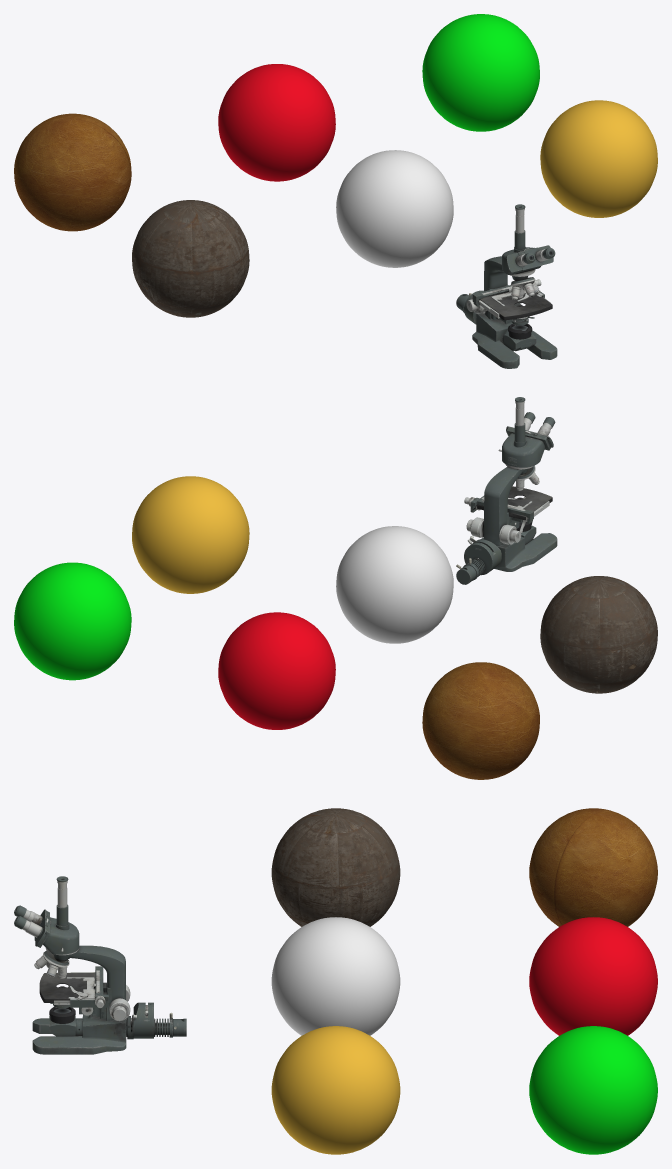
The model's file is pbrr.glb.
The picture shows the model from 3 angles, top to bottom: view 1: azimuth 30°, elevation 25°; view 2: azimuth 150°, elevation 25°; view 3: azimuth 270°, elevation 25°; orthographic projection. The views are drawn at different scales.
Parts seen in each view (by area): view 1: Sphere.006, Sphere, Sphere.001, Sphere.005, Sphere.004, Sphere.003, industrial_microscope; view 2: Sphere.003, Sphere.005, Sphere, Sphere.004, Sphere.001, Sphere.006, industrial_microscope; view 3: Sphere.001, Sphere.005, industrial_microscope, Sphere.003, Sphere.006, Sphere.004, Sphere.
Part boxes in pixels (x1,y1,x2,y2): Sphere.006: [14, 113, 131, 231]; Sphere: [336, 150, 453, 267]; Sphere.001: [540, 100, 657, 217]; Sphere.005: [422, 14, 539, 131]; Sphere.004: [218, 64, 335, 181]; Sphere.003: [132, 200, 249, 317]; industrial_microscope: [456, 204, 557, 368]; Sphere.003: [540, 576, 657, 693]; Sphere.005: [14, 562, 131, 680]; Sphere: [336, 526, 453, 643]; Sphere.004: [218, 612, 335, 729]; Sphere.001: [132, 476, 249, 593]; Sphere.006: [422, 662, 539, 779]; industrial_microscope: [456, 397, 557, 584]; Sphere.001: [271, 1026, 400, 1154]; Sphere.005: [529, 1026, 657, 1154]; industrial_microscope: [14, 876, 186, 1054]; Sphere.003: [271, 808, 400, 926]; Sphere.006: [529, 808, 657, 926]; Sphere.004: [529, 917, 657, 1035]; Sphere: [271, 917, 400, 1035].
Size of the model in its own units: 5 by 1.38 by 5.
Materials: 7 (3 with a texture image).
